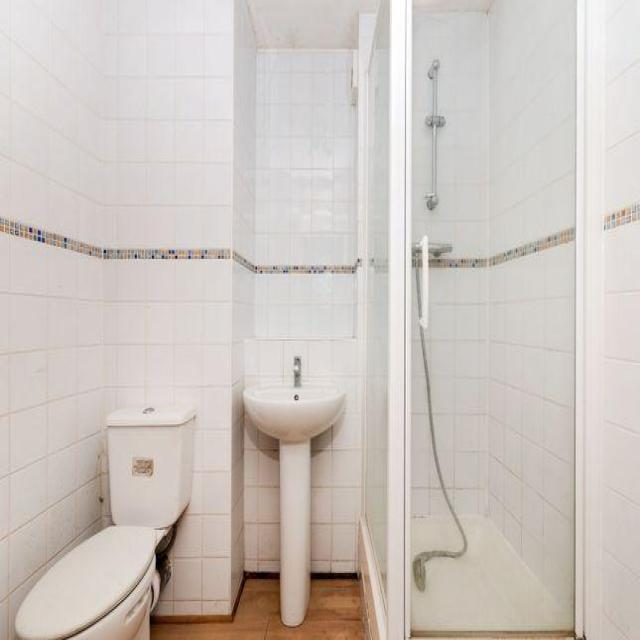Wall: (0, 233, 361, 637), (0, 0, 358, 264), (426, 240, 574, 625), (413, 0, 574, 260), (601, 0, 640, 637), (0, 217, 360, 276), (411, 516, 565, 632), (151, 576, 366, 640), (411, 302, 447, 517), (248, 0, 377, 49), (430, 229, 575, 268), (411, 517, 461, 556), (604, 203, 640, 232)
